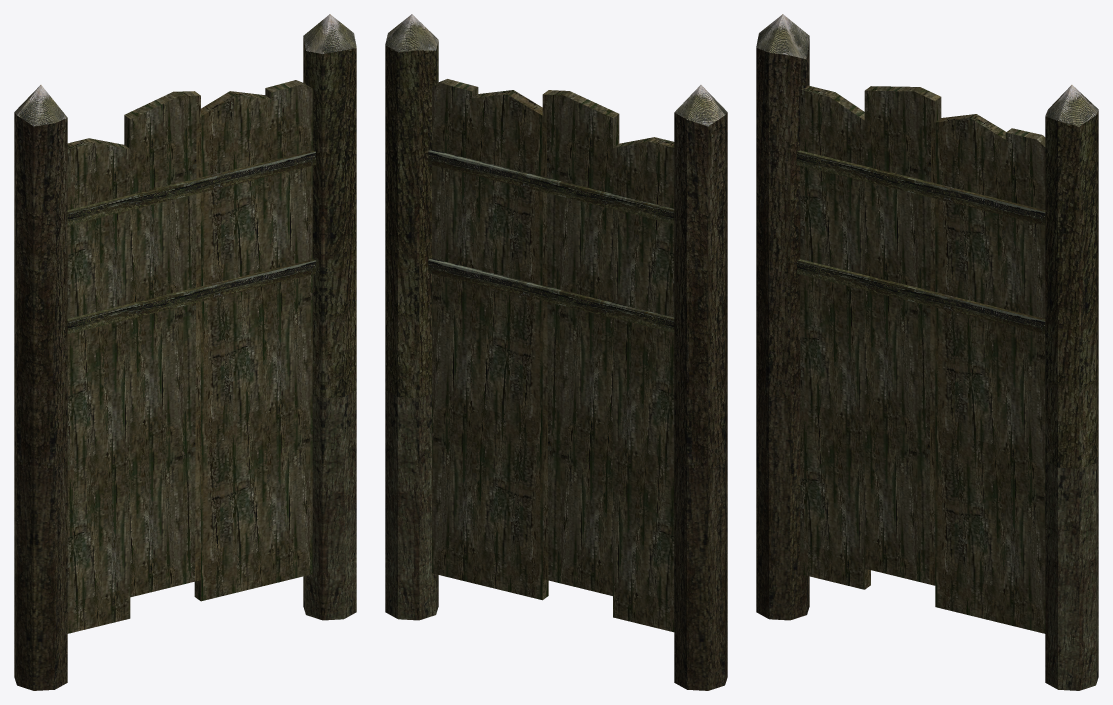
File: palisada4.glb
3 renders of one model, left to right at view 1: azimuth 30°, elevation 25°; view 2: azimuth 150°, elevation 25°; view 3: azimuth 330°, elevation 25°, orthographic.
Parts seen in each view (by area): view 1: zengin; view 2: zengin; view 3: zengin.
Boxes of the visible parts, bbox=[...] form: zengin: bbox=[14, 14, 356, 690]; zengin: bbox=[385, 14, 727, 690]; zengin: bbox=[756, 14, 1098, 690].
Bounding box in the file's own units: 4.93 × 8.31 × 0.7029.
4 materials, 4 textured.
